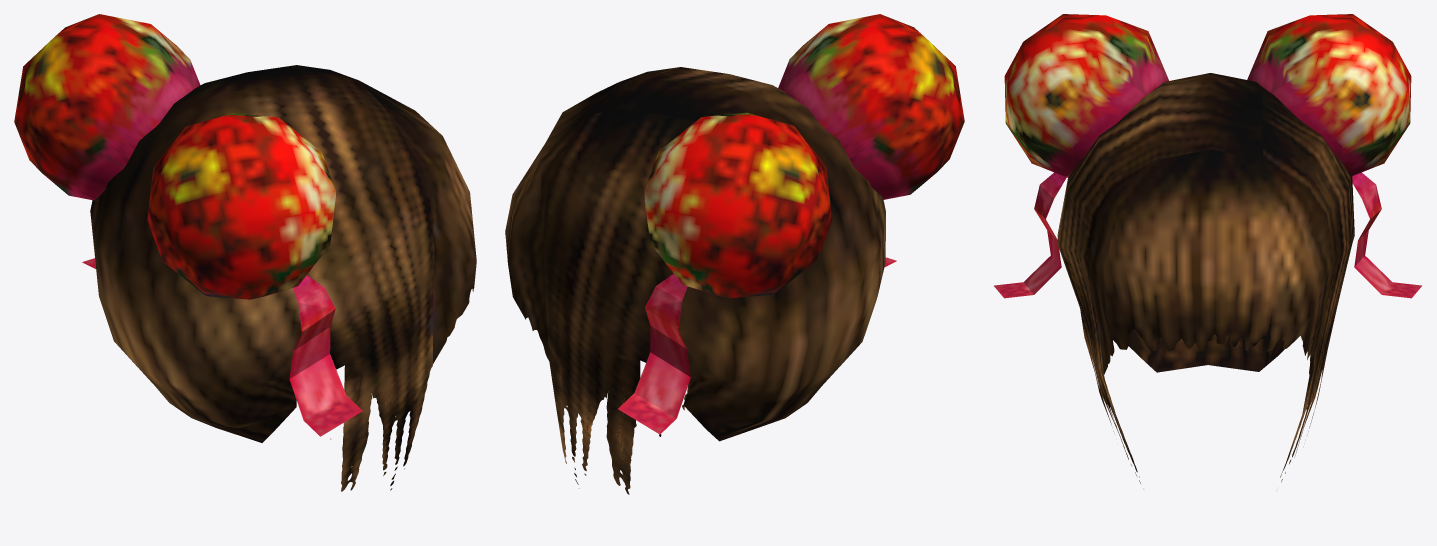
File: chrhat_5000002.FBX
The picture shows the model from 3 angles, left to right: view 1: azimuth 30°, elevation 25°; view 2: azimuth 150°, elevation 25°; view 3: azimuth 270°, elevation 25°; orthographic projection. The views are drawn at different scales.
Parts seen in each view (by area): view 1: chrhat_5000002; view 2: chrhat_5000002; view 3: chrhat_5000002.
Part boxes in pixels (x1,y1,x2,y2): chrhat_5000002: (14, 14, 476, 491); chrhat_5000002: (505, 14, 964, 494); chrhat_5000002: (994, 14, 1421, 483).
Bounding box in the file's own units: 28.37 × 35.83 × 32.83.
